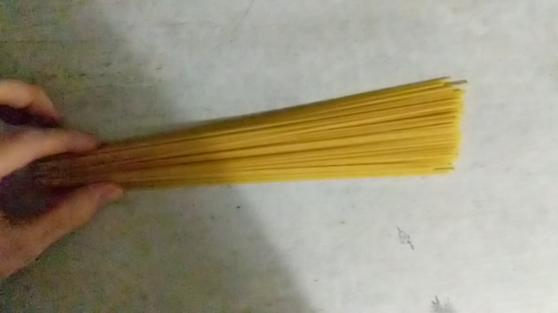spaghetti: (22, 70, 477, 222)
